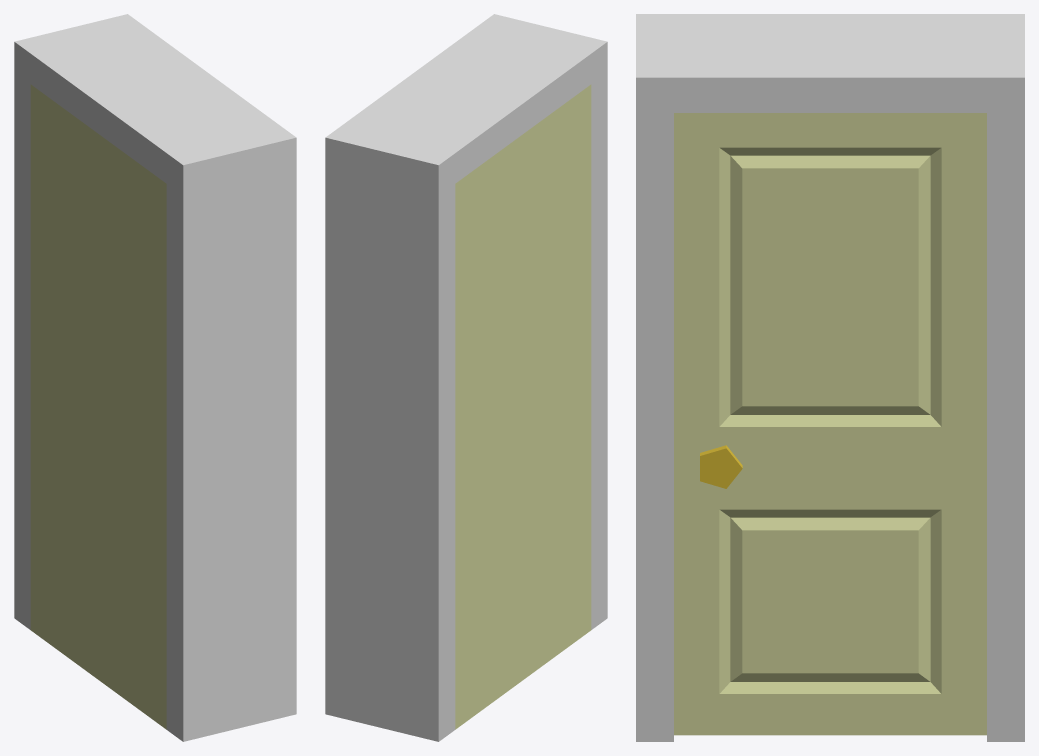
Rendered from Door.fbx.
3 renders of one model, left to right at view 1: azimuth 30°, elevation 25°; view 2: azimuth 150°, elevation 25°; view 3: azimuth 270°, elevation 25°, orthographic. The views are drawn at different scales.
Visible parts, largest first — view 1: Door; view 2: Door; view 3: Door.
Part boxes in pixels (left/top/right/bottom): Door: left=14, top=14, right=296, bottom=741; Door: left=325, top=14, right=607, bottom=741; Door: left=636, top=14, right=1024, bottom=741.
Size of the model in its own units: 223 by 1084 by 575.
